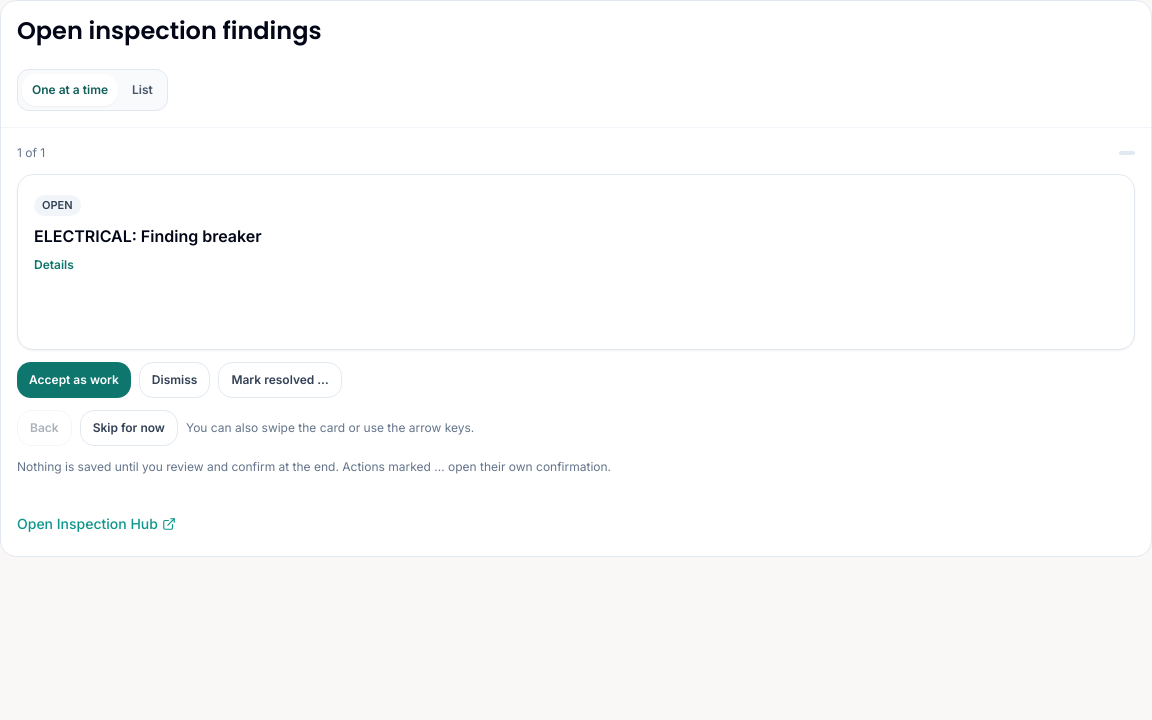
Test: with nothing chosen there is nothing to confirm
The width and height of the screenshot is (1152, 720).
Click the button "Skip for now" at (129, 428), box [80,410,178,446]
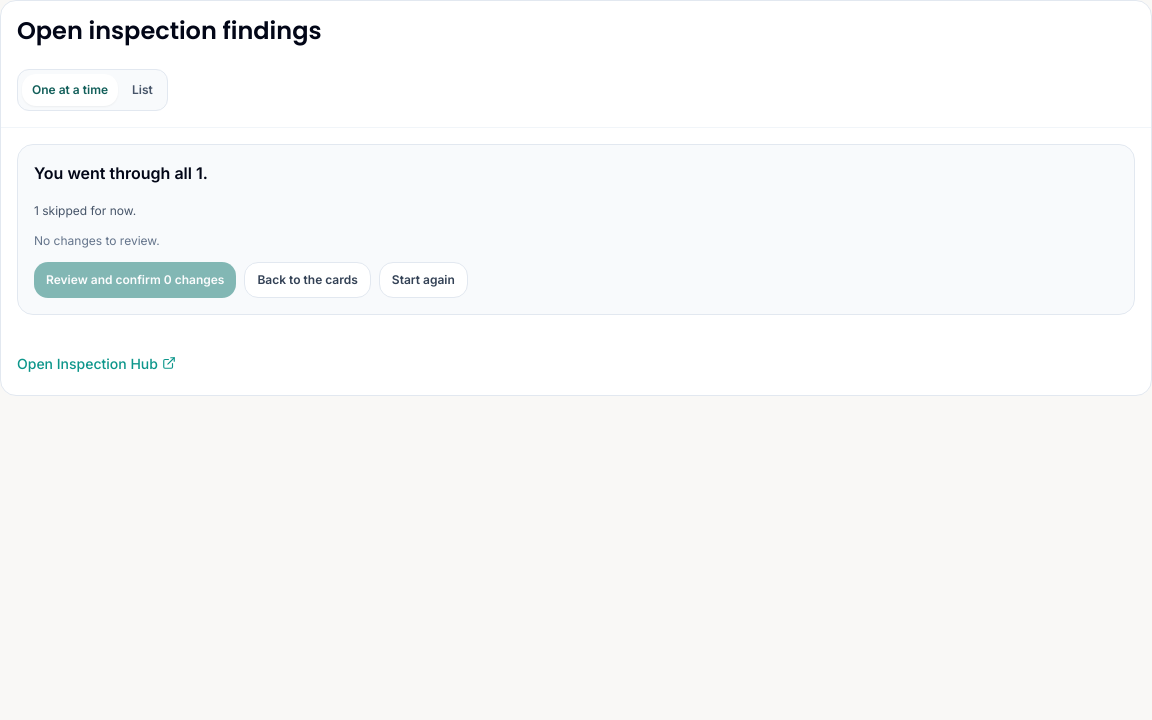
Result: the button "Review and confirm 0 changes" is disabled at [34,262,236,298]
Result: the text "No changes to review." is shown at [34,233,160,248]
